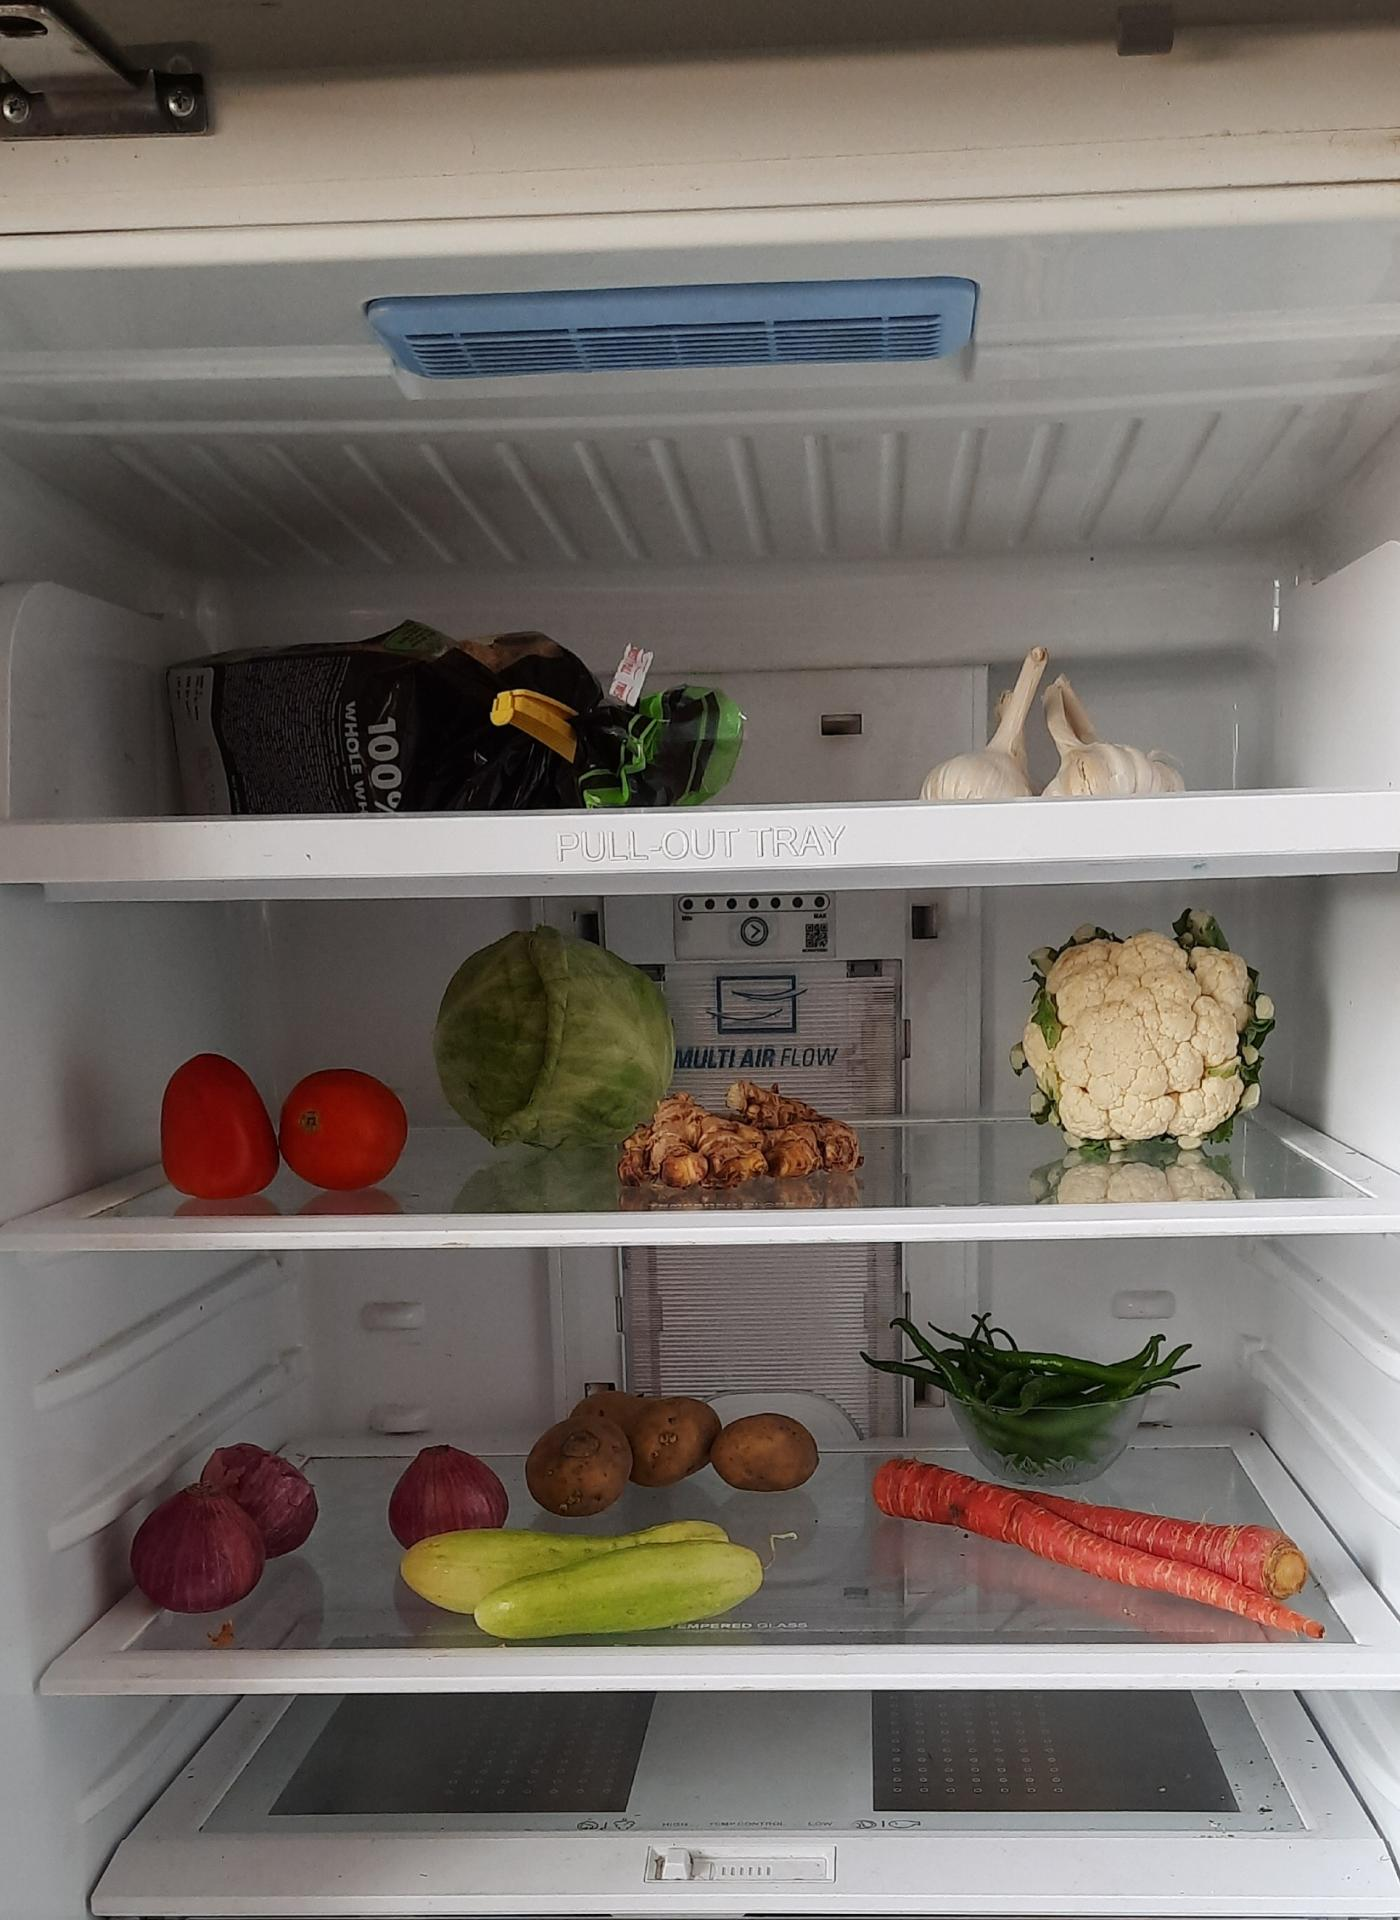bread: (164, 637, 720, 821)
cabbage: (432, 932, 678, 1152)
carrots: (875, 1449, 1325, 1626)
cauliflower: (1023, 921, 1264, 1148)
chillies: (908, 1313, 1176, 1465)
cucumber: (397, 1516, 769, 1641)
garlic: (926, 653, 1193, 808)
ginger: (623, 1090, 868, 1193)
onion: (137, 1436, 324, 1608), (385, 1434, 522, 1556)
potato: (532, 1386, 827, 1509)
tomato: (165, 1051, 414, 1200)
